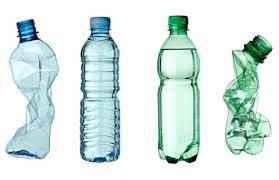Plastic: (6, 9, 60, 166), (156, 11, 202, 165), (223, 34, 276, 158), (81, 13, 124, 165)
